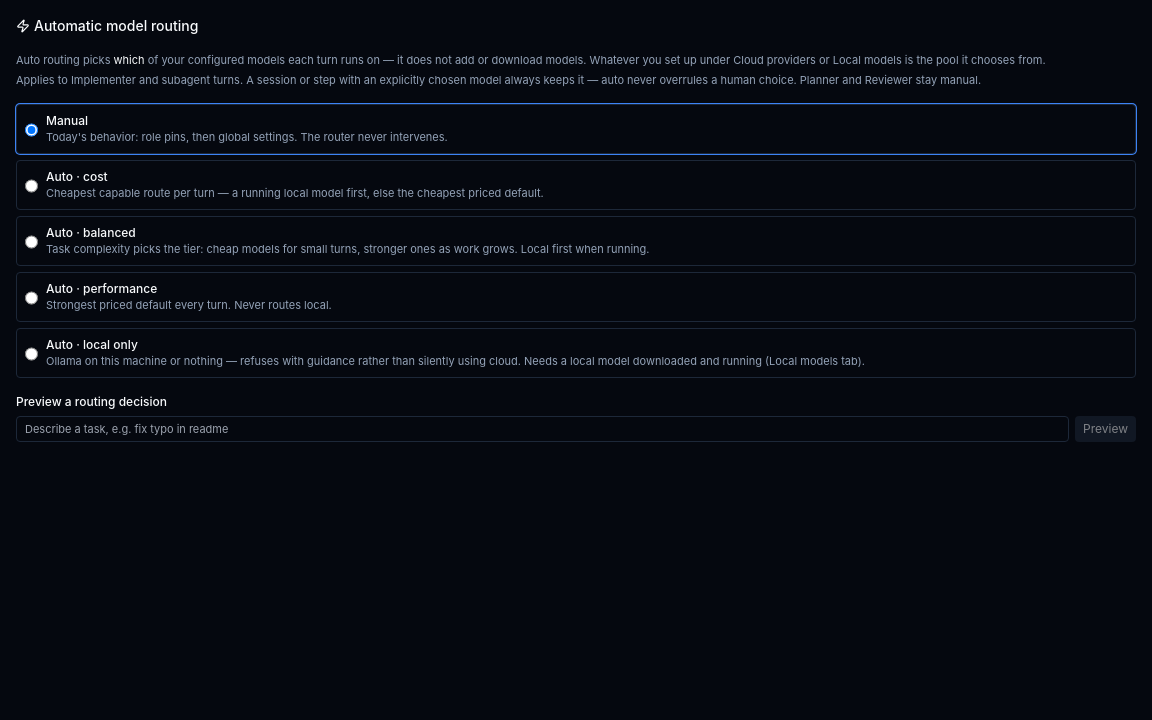
Test case: RoutingPanel › previewing a task shows the explained decision
Expected: the text "Automatic model routing" is shown, [16,17,198,34]
Type "fix typo" into the field with placeholder "Describe a task, e.g. fix typo in readme" at (542, 429), box [16,416,1069,442]
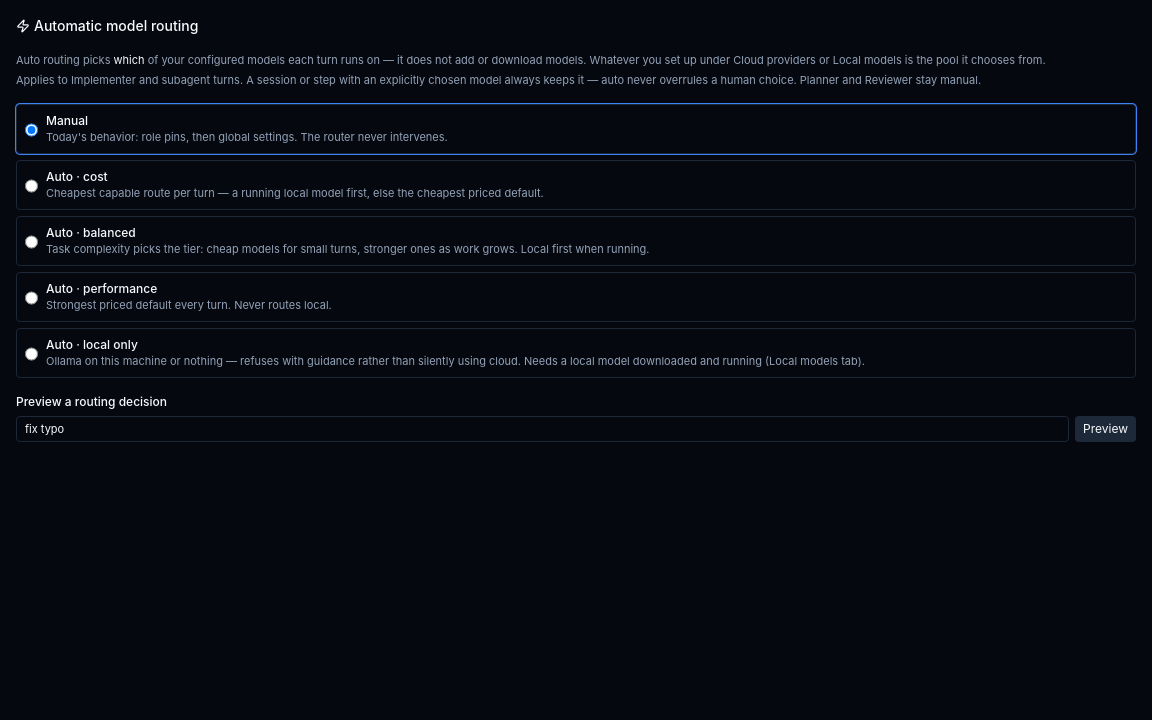
Click the button "Preview" at (1106, 429), box [1075,416,1136,442]
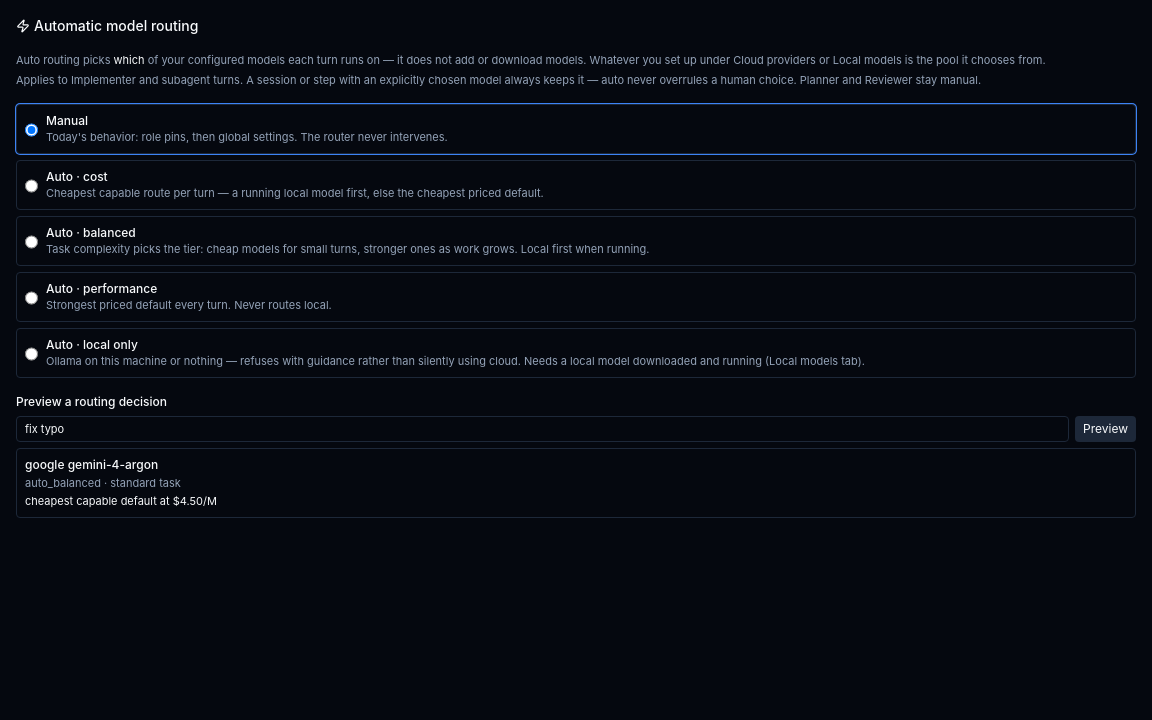
Now the text "google gemini-4-argon" is shown, box [25,457,158,472]
Now the text "cheapest capable default at $4.50/M" is shown, box [25,494,217,508]
